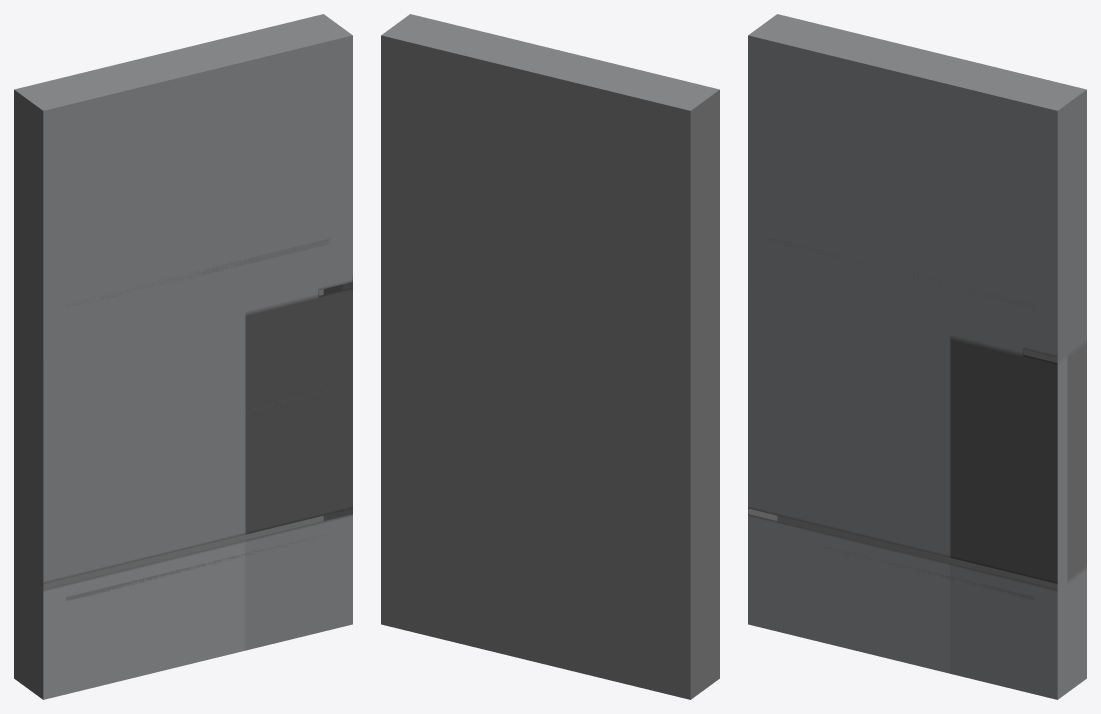
3 views of the same model, side by side, from view 1: azimuth 30°, elevation 25°; view 2: azimuth 150°, elevation 25°; view 3: azimuth 330°, elevation 25° (orthographic).
Bounding box in the file's own units: 0.55 × 1 × 0.09.
